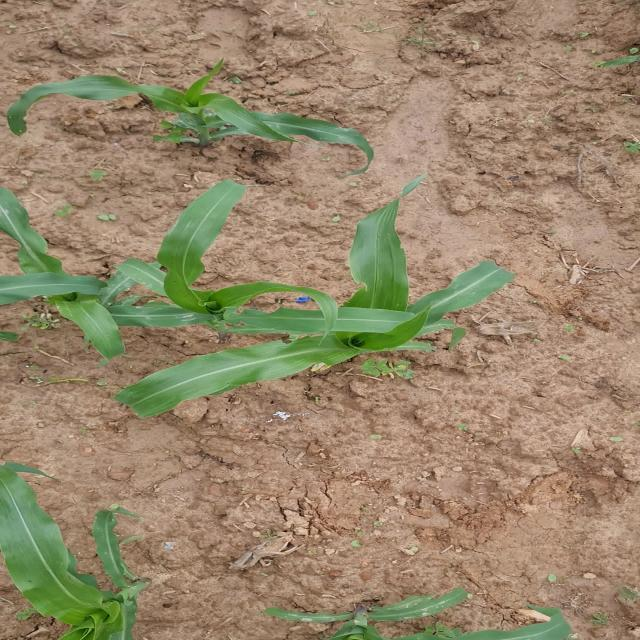maize: (0, 193, 590, 381), (0, 49, 394, 180), (0, 437, 213, 640), (235, 556, 573, 640)
weed: (592, 123, 640, 182), (338, 354, 441, 381), (588, 47, 640, 73)
